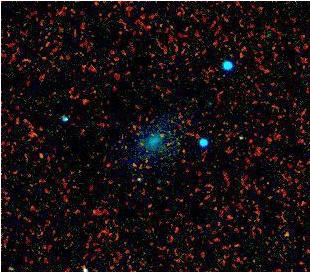star: (127, 163, 157, 193)
